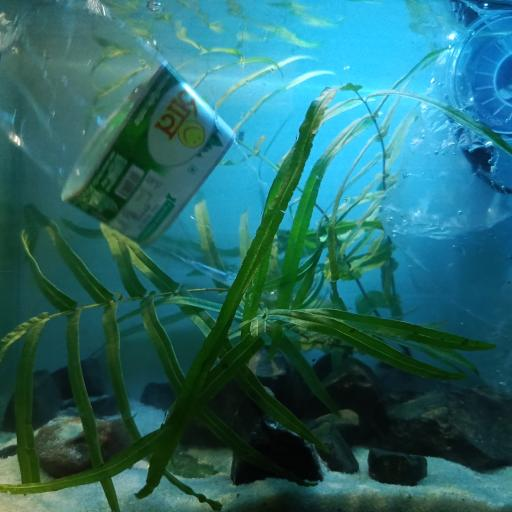plastic_bag: (370, 1, 512, 398)
plastic_bottle: (1, 0, 270, 280)
plastic_cup: (449, 12, 512, 136)
